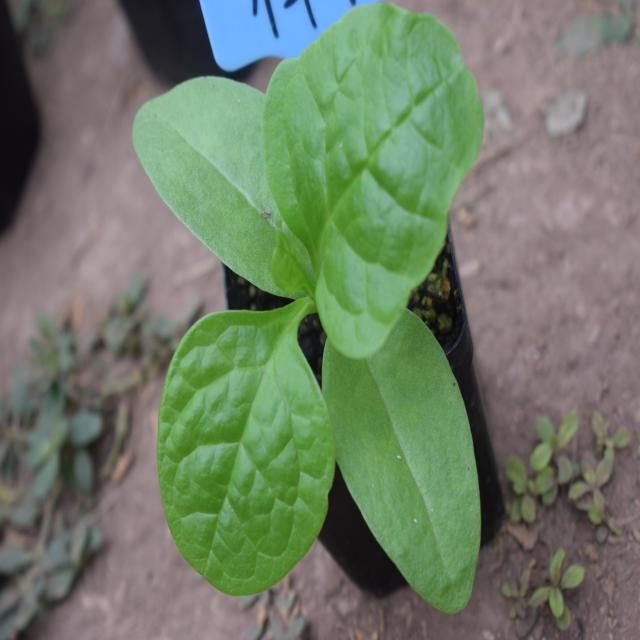Ceylon spinach: (143, 0, 492, 602)
